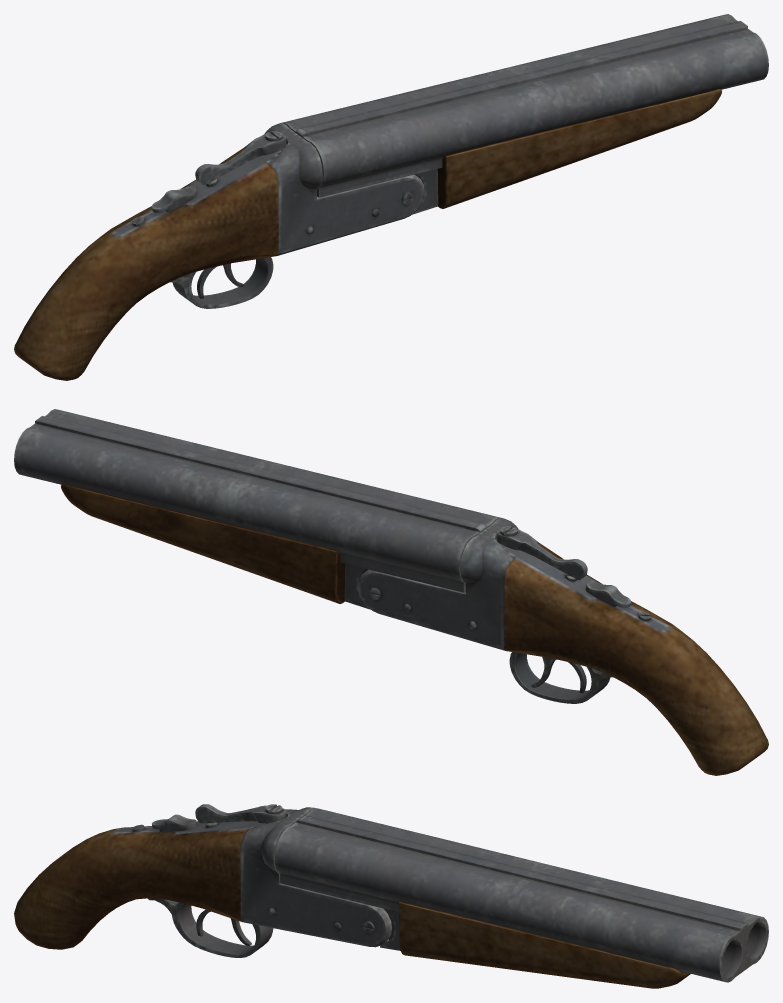
File: sawnoffs.ab4ac99fee.glb
3 renders of one model, top to bottom at view 1: azimuth 30°, elevation 25°; view 2: azimuth 150°, elevation 25°; view 3: azimuth 330°, elevation 25°, orthographic.
Visible parts, largest first — view 1: front, base, base_2; view 2: front, base, base_2; view 3: front, base, base_2.
Part boxes in pixels (x1,y1,x2,y2): front: [280, 14, 768, 214]; base: [14, 123, 424, 380]; base_2: [195, 134, 286, 184]; front: [14, 409, 502, 609]; base: [358, 518, 768, 775]; base_2: [496, 529, 587, 579]; front: [274, 808, 768, 988]; base: [14, 804, 391, 957]; base_2: [195, 804, 286, 823].
Size of the model in its own units: 0.5204 by 0.1281 by 0.0614.
Materials: 1 (1 with a texture image).
